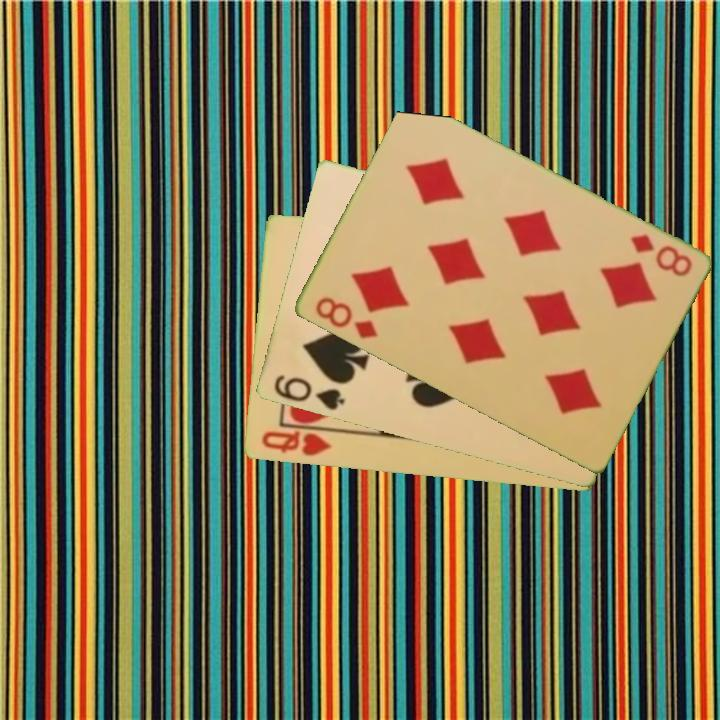6s: (270, 371, 347, 414)
8d: (626, 230, 695, 280), (311, 293, 380, 342)
Qh: (258, 424, 339, 459)
